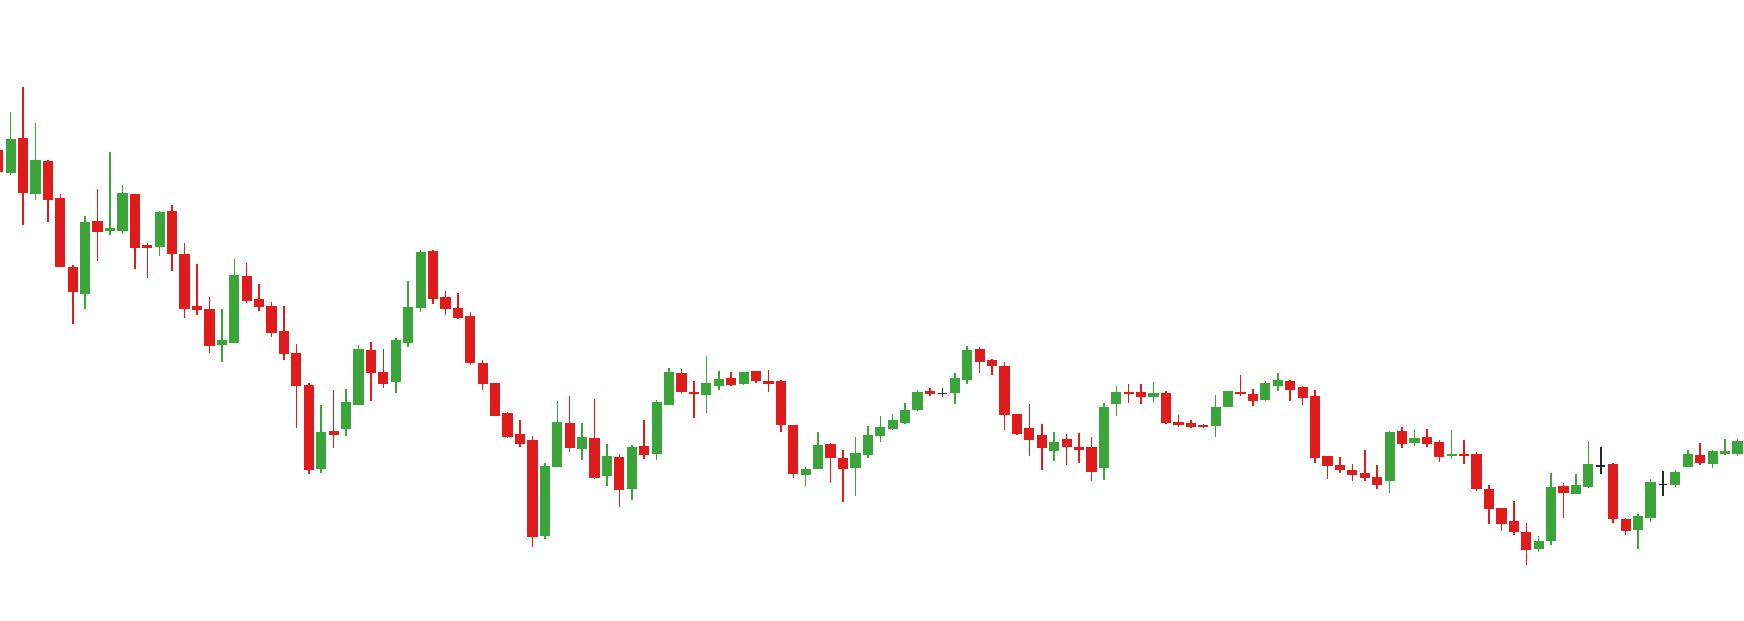buy: (304, 386, 552, 550), (1557, 481, 1644, 548)
sell: (227, 250, 439, 369)
